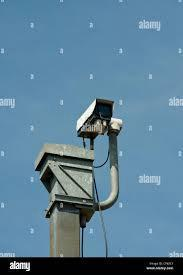Speed-Camera: (70, 95, 127, 142)
